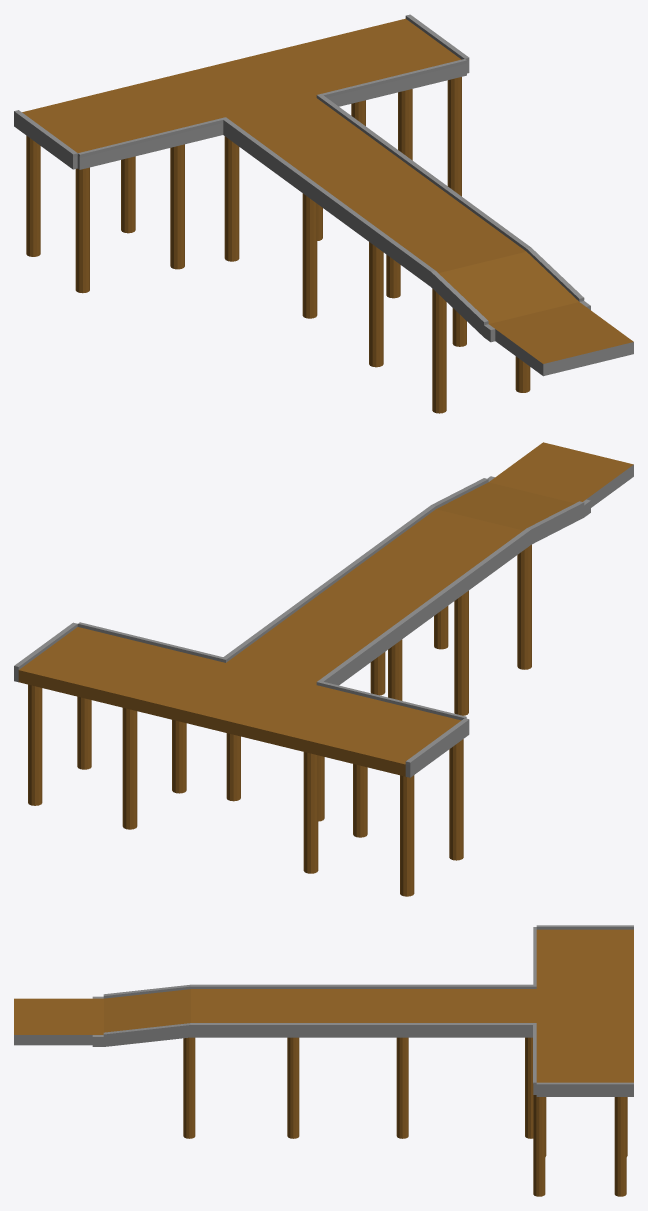
The model's file is pomost.fbx.
3 views of the same model, one above another, from view 1: azimuth 30°, elevation 25°; view 2: azimuth 150°, elevation 25°; view 3: azimuth 270°, elevation 25° (orthographic). The views are drawn at different scales.
Parts seen in each view (by area): view 1: Cube; view 2: Cube; view 3: Cube.
Boxes of the visible parts, x1,y1,x2,y2 form: Cube: (14, 14, 633, 413); Cube: (14, 442, 633, 896); Cube: (14, 925, 633, 1196).
Size of the model in its own units: 1401 by 472 by 2305.
